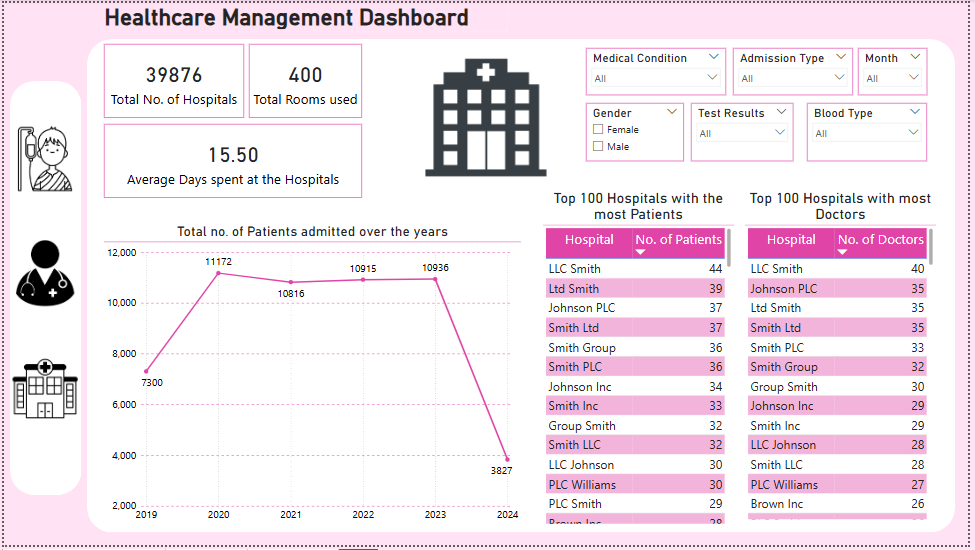

The dashboard page shown, as its layout file describes it:
{"tool":"powerbi","page":{"name":"Hospitals","canvas":[1920,1080],"ordinal":2},"visuals":[{"type":"shape","box":[164.6,72.4,1729.8,983.4],"z":0},{"type":"textbox","title":"Healthcare Management Dashboard","box":[195.4,0,807.8,57.1],"z":1000},{"type":"card","fields":{"Values":["Count(healthcare_dataset.Hospital)"]},"box":[199.3,81.7,279,147.5],"z":2000},{"type":"shape","box":[11,155.9,142.7,825.4],"z":3000},{"type":"card","fields":{"Values":["Avg(healthcare_dataset.Days spent at the Hospital)"]},"box":[199.3,241.1,514.1,147.5],"z":4000},{"type":"card","fields":{"Values":["Count(healthcare_dataset.Room Number)"]},"box":[488.2,81.7,225.2,147.5],"z":5000},{"type":"lineChart","title":"Total no. of Patients admitted over the years","fields":{"Category":["healthcare_dataset.Date of Admission.Variation.Date Hierarchy.Year"],"Y":["CountNonNull(healthcare_dataset.Name)"]},"box":[199.3,438.4,830.9,603.8],"z":6000},{"type":"tableEx","title":"Top 100 Hospitals with the most Patients","fields":{"Values":["healthcare_dataset.Hospital","CountNonNull(healthcare_dataset.Name)"]},"box":[1073.4,371,379.8,671.7],"z":7000},{"type":"slicer","fields":{"Values":["healthcare_dataset.Blood Type"]},"box":[1600.2,199.8,239.3,116.3],"z":8000},{"type":"slicer","fields":{"Values":["healthcare_dataset.Gender"]},"box":[1159,199.8,195.4,116.3],"z":9000},{"type":"slicer","fields":{"Values":["healthcare_dataset.Admission Type"]},"box":[1453.2,90,239.3,94.4],"z":10000},{"type":"slicer","fields":{"Values":["healthcare_dataset.Test Results"]},"box":[1369.8,199.8,204.1,116.3],"z":11000},{"type":"slicer","fields":{"Values":["healthcare_dataset.Medical Condition"]},"box":[1159,90,278.8,94.4],"z":12000},{"type":"image","box":[0,230.5,164.6,158],"z":13000},{"type":"image","box":[0,458.8,164.6,160.2],"z":14000},{"type":"tableEx","title":"Top 100 Hospitals with most Doctors","fields":{"Values":["healthcare_dataset.Hospital","healthcare_dataset.Doctor"]},"box":[1477.3,371,379.8,662.9],"z":14001},{"type":"image","box":[713.4,69.7,494.2,316.8],"z":14002},{"type":"image","box":[11,586.1,140.5,364.4],"z":14003},{"type":"slicer","fields":{"Values":["healthcare_dataset.Date of Admission.Variation.Date Hierarchy.Month"]},"box":[1701.2,90,138.3,94.4],"z":14004}]}

Visuals, with their boxes in screenshot pixels (x1, y1, x2, y2), scaled from the page's 1920x1080 canvas onto the 975x550 screenshot:
shape: (84, 37, 962, 538)
"Healthcare Management Dashboard" textbox: (99, 0, 509, 29)
card - Count(healthcare_dataset.Hospital): (101, 42, 243, 117)
shape: (6, 79, 78, 500)
card - Avg(healthcare_dataset.Days spent at the Hospital): (101, 123, 362, 198)
card - Count(healthcare_dataset.Room Number): (248, 42, 362, 117)
"Total no. of Patients admitted over the years" lineChart: (101, 223, 523, 531)
"Top 100 Hospitals with the most Patients" tableEx: (545, 189, 738, 531)
slicer - healthcare_dataset.Blood Type: (813, 102, 934, 161)
slicer - healthcare_dataset.Gender: (589, 102, 688, 161)
slicer - healthcare_dataset.Admission Type: (738, 46, 859, 94)
slicer - healthcare_dataset.Test Results: (696, 102, 799, 161)
slicer - healthcare_dataset.Medical Condition: (589, 46, 730, 94)
image: (0, 117, 84, 198)
image: (0, 234, 84, 315)
"Top 100 Hospitals with most Doctors" tableEx: (750, 189, 943, 527)
image: (362, 35, 613, 197)
image: (6, 298, 77, 484)
slicer - healthcare_dataset.Date of Admission.Variation.Date Hierarchy.Month: (864, 46, 934, 94)
